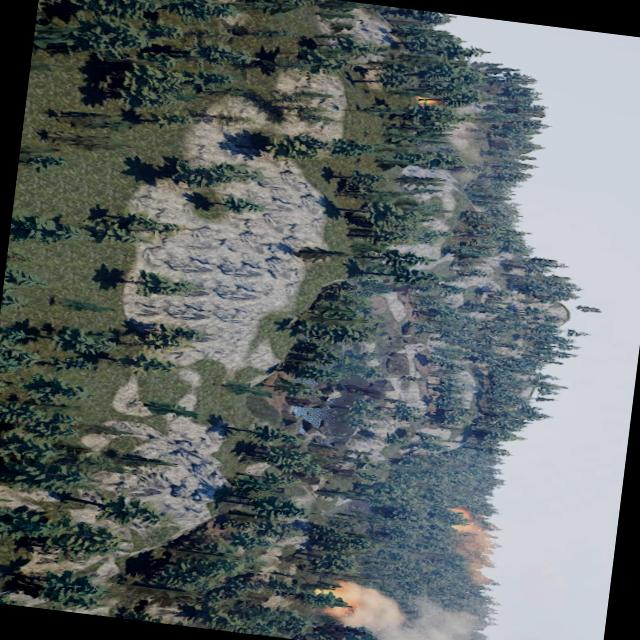fire: (310, 580, 358, 613), (415, 95, 439, 105), (449, 508, 470, 518)
smoke: (334, 582, 495, 640), (448, 514, 505, 582)
